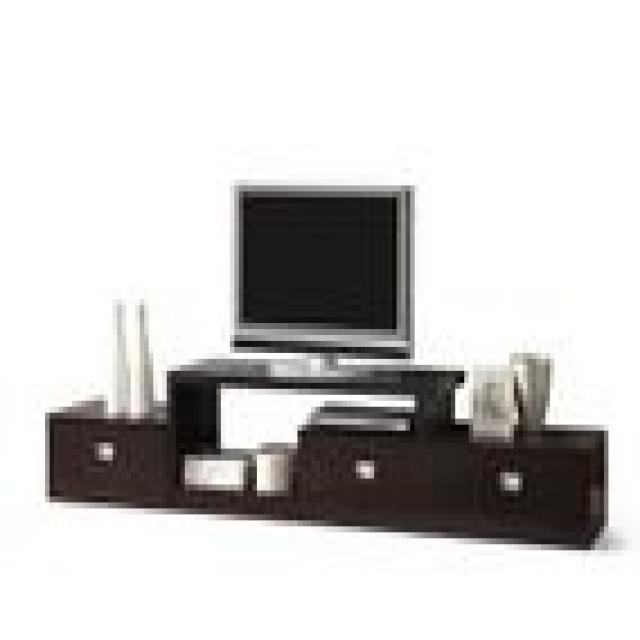others: (221, 167, 428, 371)
